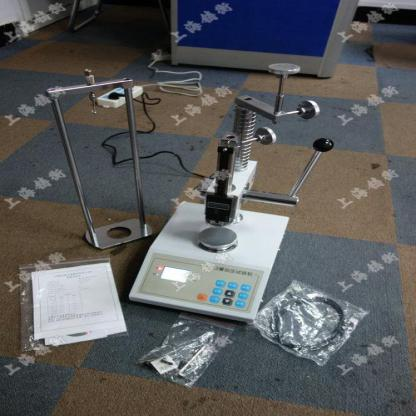FOD: (231, 102, 259, 170)
